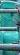cylinder: (1, 1, 20, 55)
